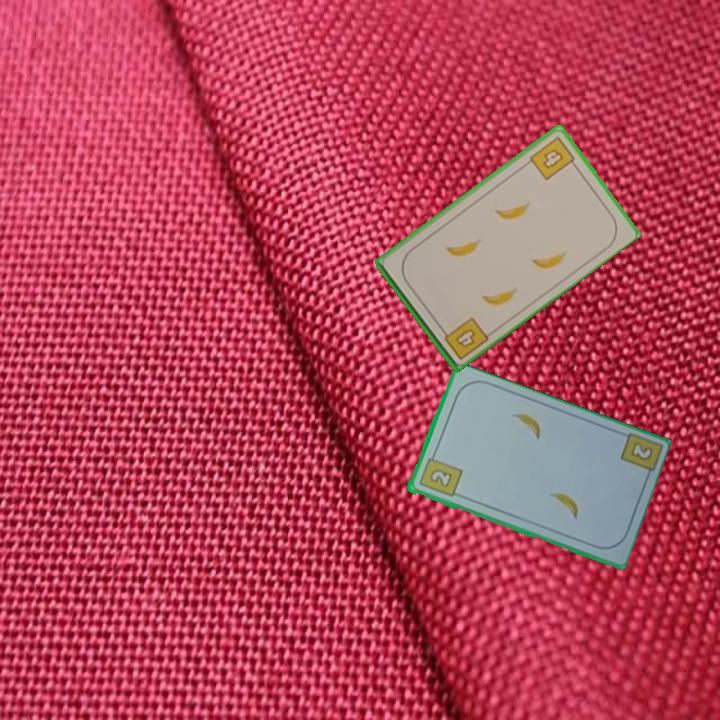2b: (415, 449, 464, 500), (626, 438, 656, 463)
4b: (526, 133, 580, 183), (437, 313, 491, 363)
